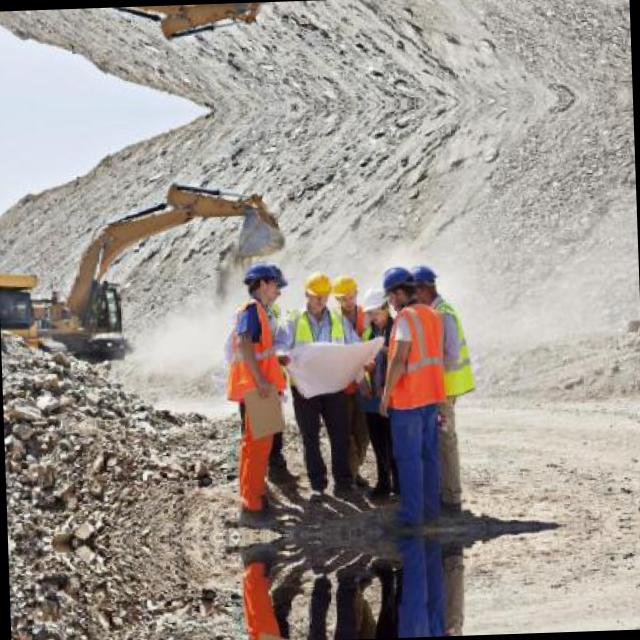helmet: (240, 255, 286, 306), (378, 260, 417, 306), (332, 274, 362, 315), (409, 265, 441, 303), (360, 284, 390, 324), (301, 268, 331, 307)
